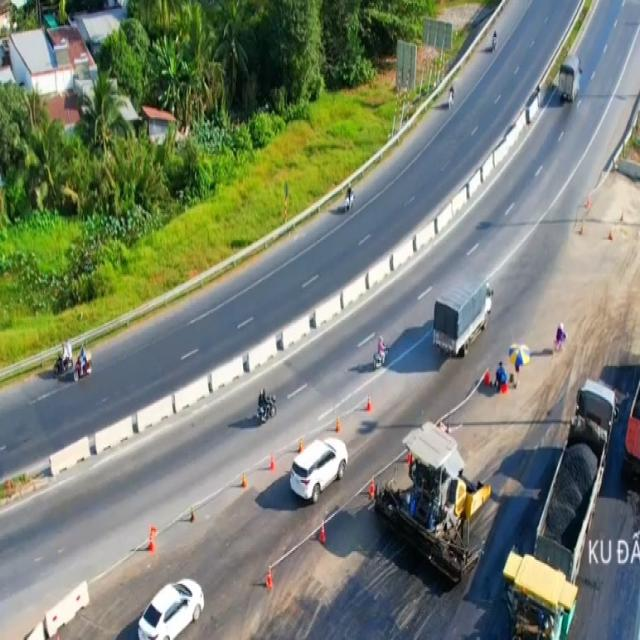car: (134, 576, 206, 638), (287, 435, 347, 507)
motorbike: (255, 385, 278, 425), (73, 344, 91, 380), (53, 344, 72, 376), (372, 336, 388, 370), (343, 188, 356, 213)
truck: (434, 271, 496, 363), (557, 54, 582, 104)
